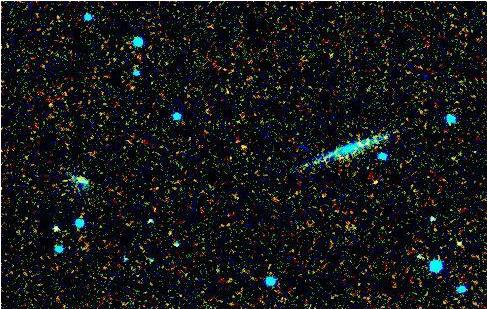star: (361, 167, 391, 197)
